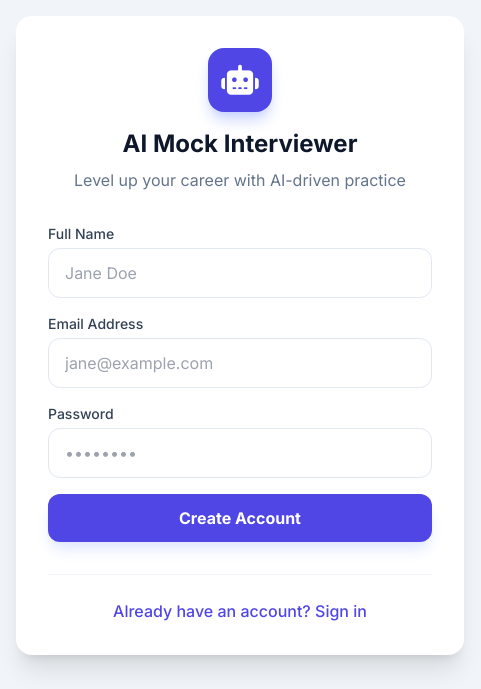
Test: AI Mock Interviewer frontend flows › shows a helpful error when sign in fails
This screenshot has width=481, height=689.
Click the button "Already have an account? Sign in" at (240, 611), box top-left (113, 599), bottom-right (367, 623)
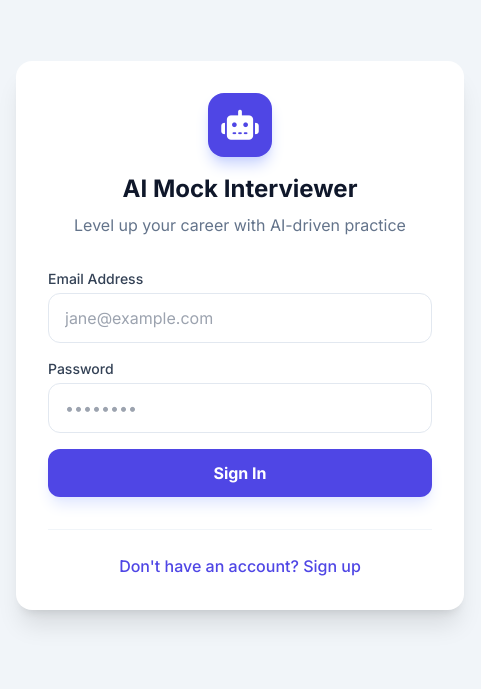
Expected: the button "Sign In" is shown, top-left (48, 448), bottom-right (432, 496)
Expected: the text "Full Name" is gone
Type "test.user@example.com" into the field with placeholder "jane@example.com" at (240, 318), box top-left (48, 293), bottom-right (432, 343)
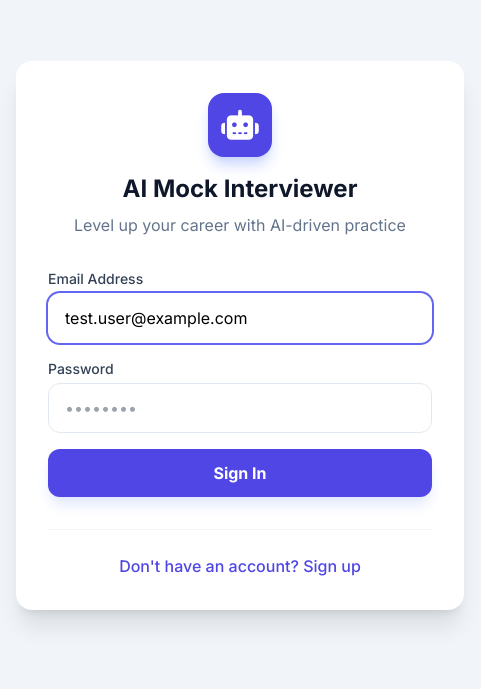
Type "WrongPassword123!" into the password field with placeholder "••••••••" at (240, 408), box top-left (48, 383), bottom-right (432, 433)
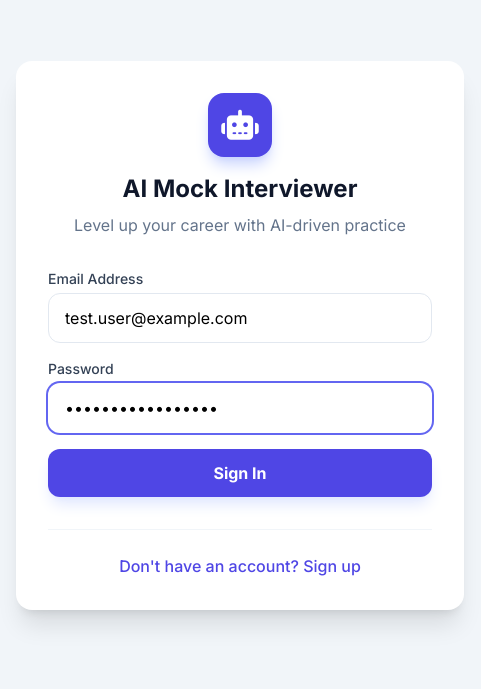
Click the button "Sign In" at (240, 473), box top-left (48, 449), bottom-right (432, 497)
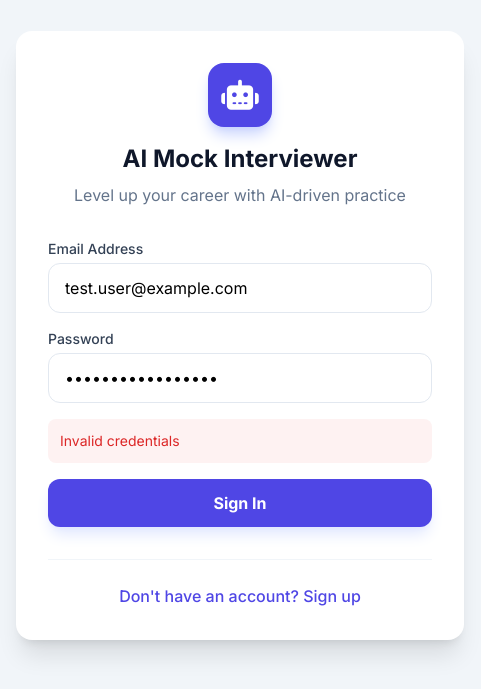
Expected: the text "Invalid credentials" is shown, top-left (48, 418), bottom-right (432, 462)
